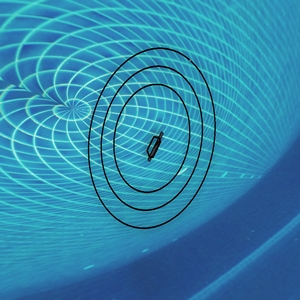circle: (69, 39, 237, 245)
submarine: (150, 134, 164, 163)
